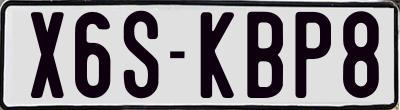6: (74, 10, 114, 102)
8: (343, 11, 384, 102)
B: (247, 12, 287, 104)
K: (201, 11, 238, 97)
P: (295, 9, 335, 95)
S: (122, 8, 159, 95)
X: (28, 12, 66, 102)
